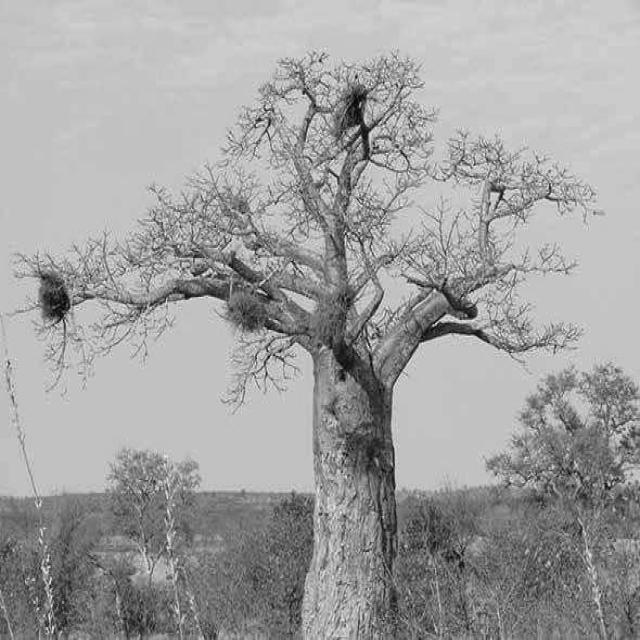Tree: (16, 51, 595, 637), (487, 363, 640, 638), (109, 452, 200, 637)
